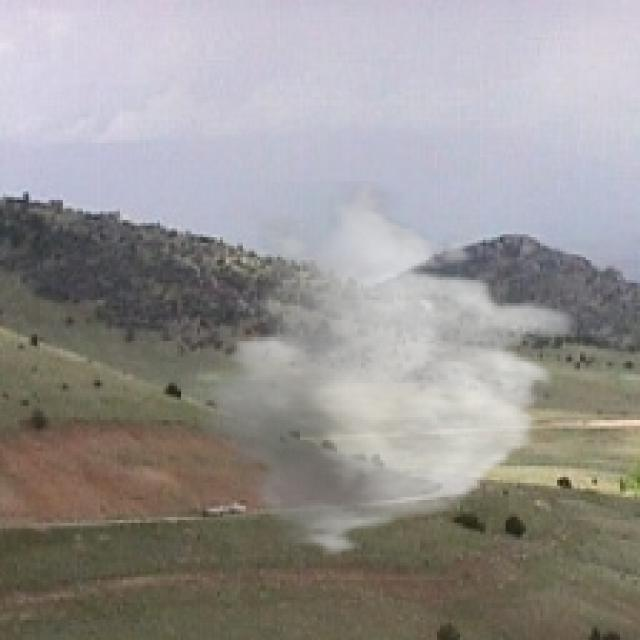Smoke: (186, 180, 583, 560)
